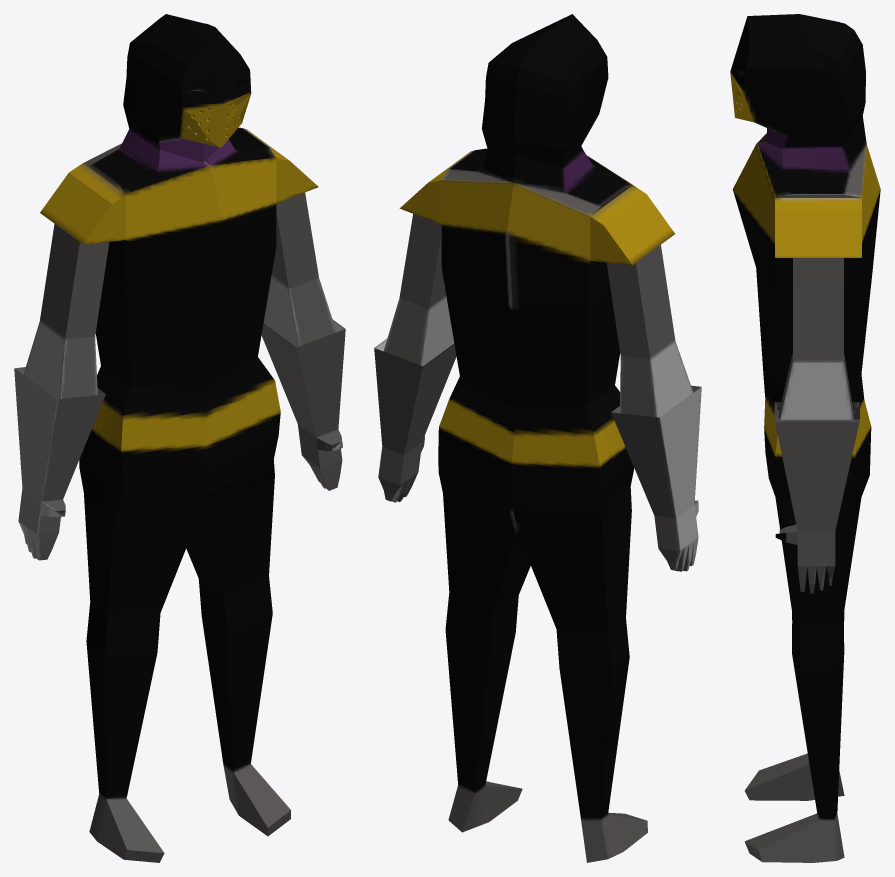
Rendered from RangedEnemy1.fbx.
3 renders of one model, left to right at view 1: azimuth 30°, elevation 25°; view 2: azimuth 150°, elevation 25°; view 3: azimuth 270°, elevation 25°, orthographic.
Visible parts, largest first — view 1: Cube; view 2: Cube; view 3: Cube.
Part boxes in pixels (left/top/right/bottom): Cube: left=14, top=14, right=345, bottom=862; Cube: left=374, top=14, right=701, bottom=862; Cube: left=730, top=14, right=880, bottom=862.
Size of the model in its own units: 68.88 by 175 by 29.31.
1 material, 1 textured.
